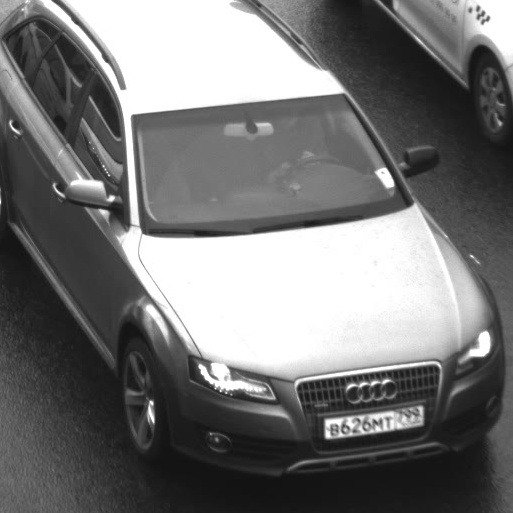plate: (311, 393, 432, 447)
